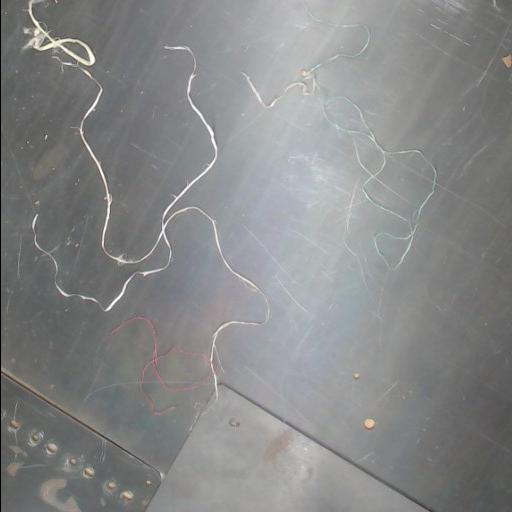conveyor belt: (1, 0, 512, 511)
thread: (26, 0, 269, 399), (321, 96, 436, 268), (242, 10, 370, 108), (110, 316, 200, 415), (136, 340, 168, 383)
